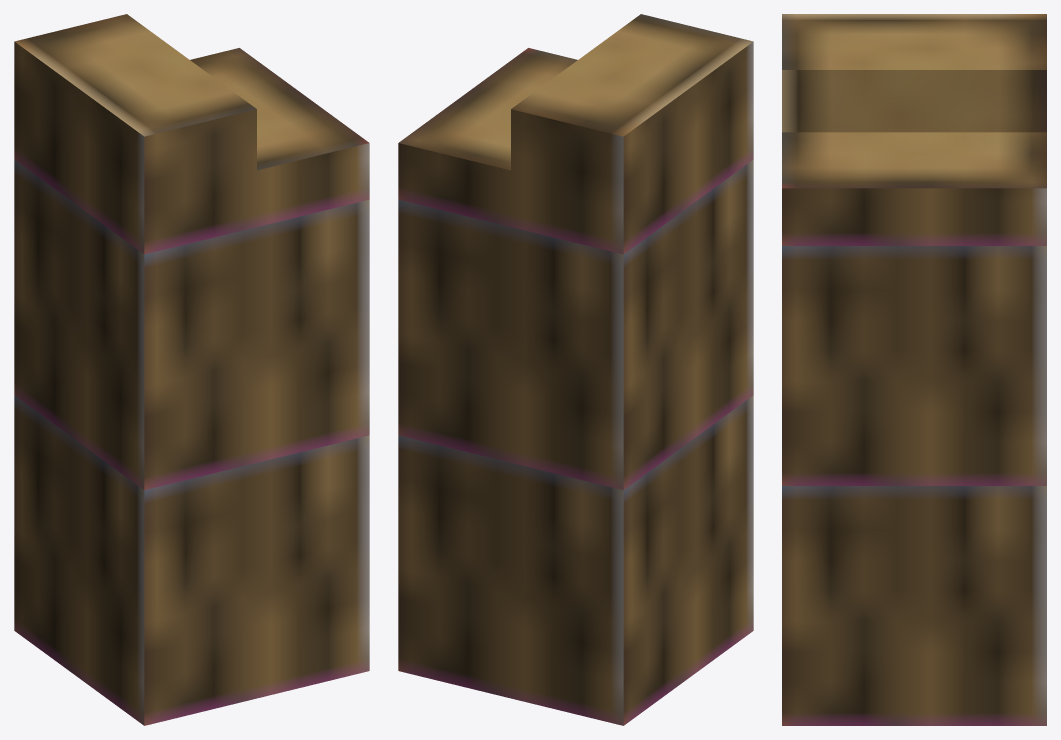
The model's file is Tree_Destroy_Step4.fbx.
3 renders of one model, left to right at view 1: azimuth 30°, elevation 25°; view 2: azimuth 150°, elevation 25°; view 3: azimuth 270°, elevation 25°, orthographic.
Parts seen in each view (by area): view 1: Tree_Destroy_Step4; view 2: Tree_Destroy_Step4; view 3: Tree_Destroy_Step4.
Boxes of the visible parts, bbox=[...] form: Tree_Destroy_Step4: bbox=[14, 14, 369, 725]; Tree_Destroy_Step4: bbox=[398, 14, 753, 725]; Tree_Destroy_Step4: bbox=[782, 14, 1046, 725].
Bounding box in the file's own units: 25 × 62.5 × 25.
Materials: 1 (1 with a texture image).
